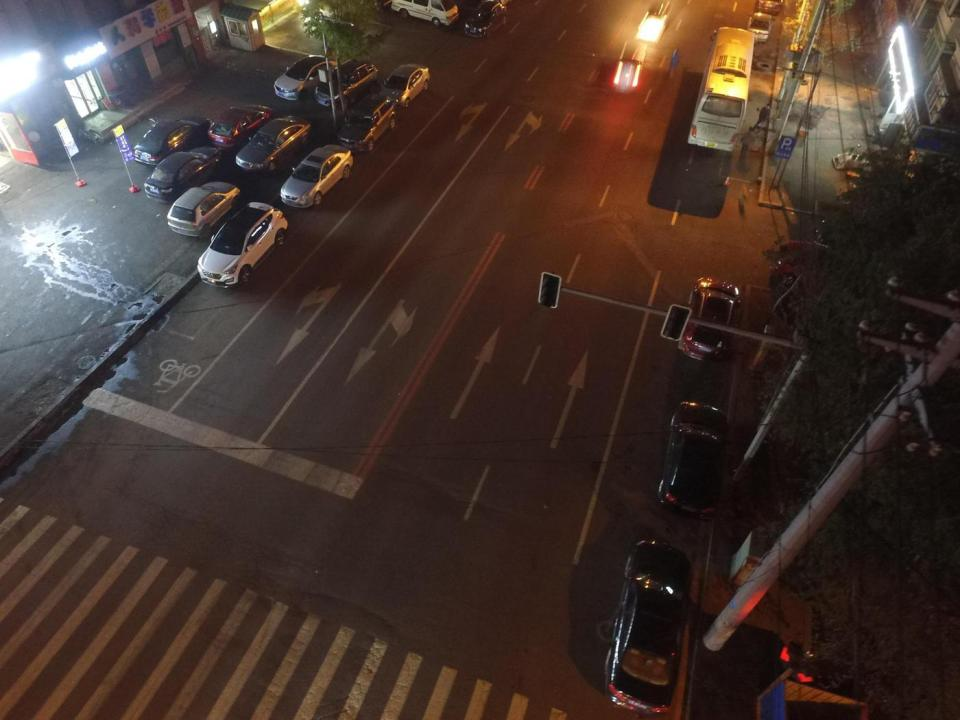bus: (687, 26, 755, 154)
car: (600, 540, 693, 716), (656, 401, 728, 521), (197, 201, 288, 285), (772, 238, 895, 294), (677, 276, 739, 362), (280, 144, 355, 208), (238, 116, 312, 176), (144, 148, 222, 201), (168, 179, 237, 237), (132, 118, 210, 165), (338, 94, 396, 150), (208, 103, 271, 151), (313, 58, 376, 106), (275, 58, 336, 99), (381, 66, 434, 109), (614, 40, 646, 97), (635, 2, 673, 44), (463, 1, 507, 36), (746, 14, 774, 40), (756, 0, 780, 16)
van: (385, 0, 459, 25)
